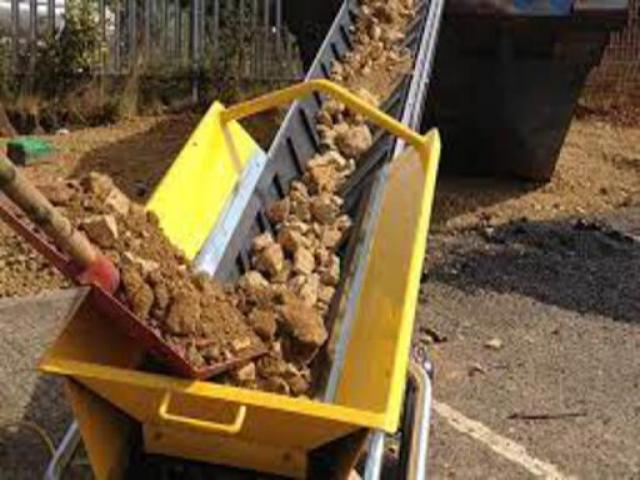conveyor: (135, 0, 441, 401)
